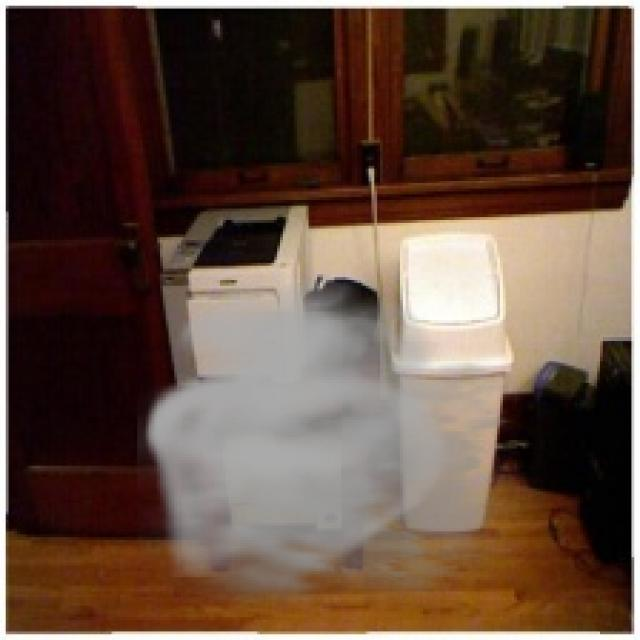smoke: (137, 274, 557, 623)
